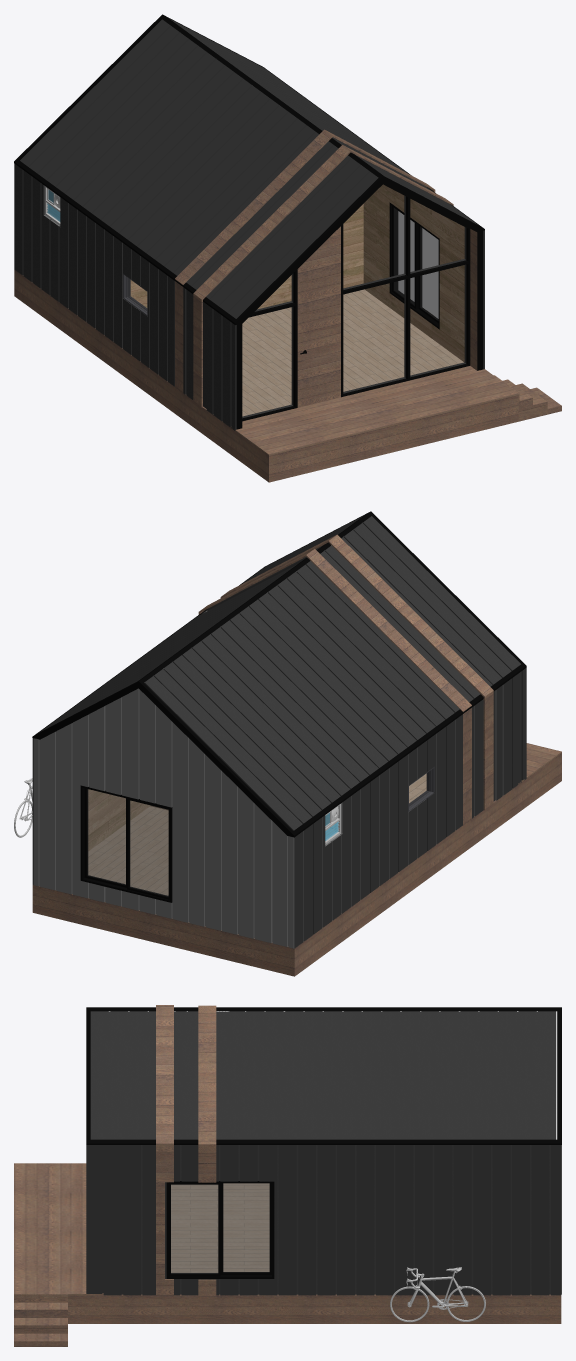
Rendered from forza-dc6edc12751b.glb.
The picture shows the model from 3 angles, top to bottom: view 1: azimuth 30°, elevation 25°; view 2: azimuth 150°, elevation 25°; view 3: azimuth 270°, elevation 25°; orthographic projection. The views are drawn at different scales.
Parts seen in each view (by area): view 1: empty_844, empty_838, empty_343, empty_1000, empty_328, empty_986, empty_840, empty_331, empty_849, empty_977; view 2: empty_844, empty_973, empty_838, empty_331, empty_1000, empty_328, empty_840, empty_923, empty_986, empty_937, empty_360; view 3: empty_848, empty_844, empty_838, empty_328, empty_331, empty_1000, empty_2, empty_360.
Boxes of the visible parts, x1,y1,x2,y2 form: empty_844: [14, 18, 477, 430]; empty_838: [14, 129, 561, 482]; empty_343: [128, 185, 465, 417]; empty_1000: [242, 289, 463, 416]; empty_328: [14, 15, 483, 429]; empty_986: [130, 184, 464, 362]; empty_840: [14, 14, 484, 323]; empty_331: [394, 208, 438, 320]; empty_849: [235, 177, 484, 324]; empty_977: [242, 196, 465, 417]; empty_844: [39, 515, 526, 947]; empty_973: [40, 688, 287, 946]; empty_838: [32, 534, 561, 976]; empty_331: [88, 789, 168, 896]; empty_1000: [88, 773, 426, 895]; empty_328: [32, 512, 526, 902]; empty_840: [33, 511, 526, 835]; empty_923: [294, 684, 503, 948]; empty_986: [88, 789, 333, 850]; empty_937: [33, 738, 341, 948]; empty_360: [14, 778, 341, 844]; empty_848: [86, 1145, 561, 1295]; empty_844: [90, 1011, 555, 1139]; empty_838: [14, 1005, 561, 1346]; empty_328: [86, 1007, 561, 1278]; empty_331: [171, 1183, 269, 1273]; empty_1000: [171, 1183, 269, 1272]; empty_2: [141, 1145, 550, 1294]; empty_360: [390, 1267, 485, 1322].
Bounding box in the file's own units: 6.63 × 4.99 × 9.31.
Materials: 46 (22 with a texture image).
